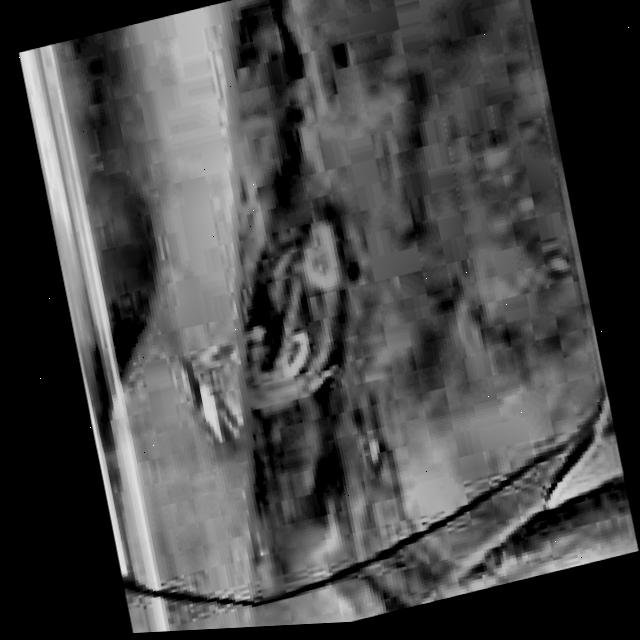door_dent: (180, 204, 415, 587)
